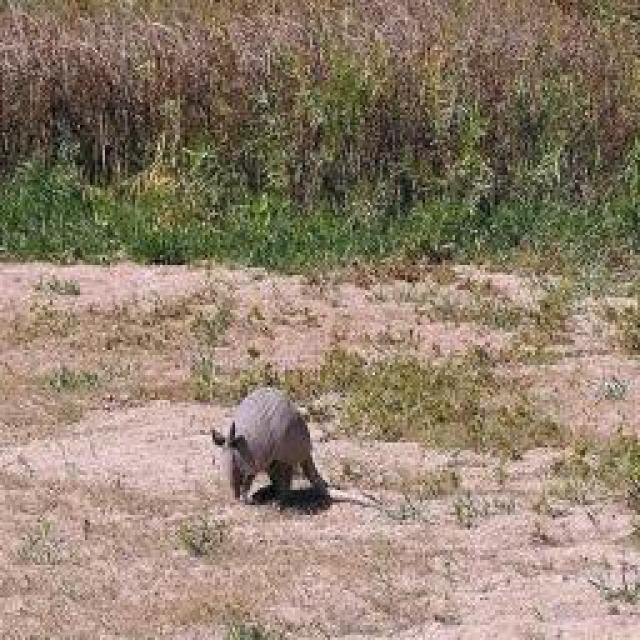not_pig: (208, 383, 330, 505)
